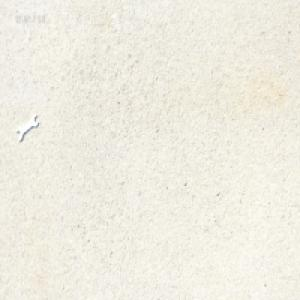Wrench: (20, 108, 43, 140)
